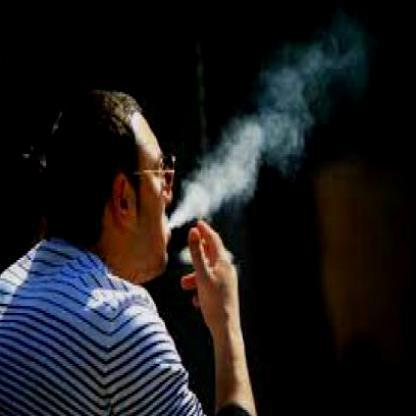person: (27, 92, 178, 415)
smoke: (172, 128, 258, 226), (246, 74, 324, 176)
